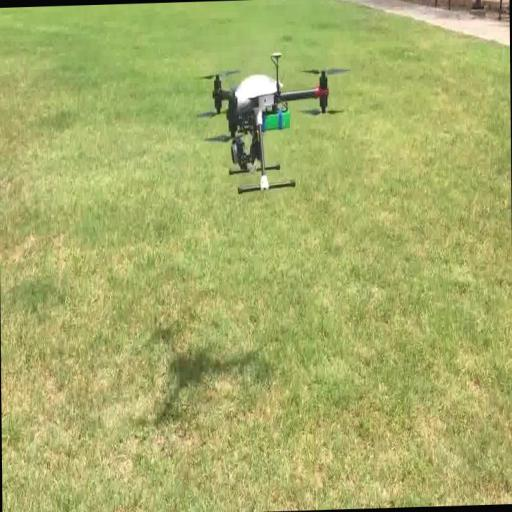drone: (200, 46, 338, 196)
